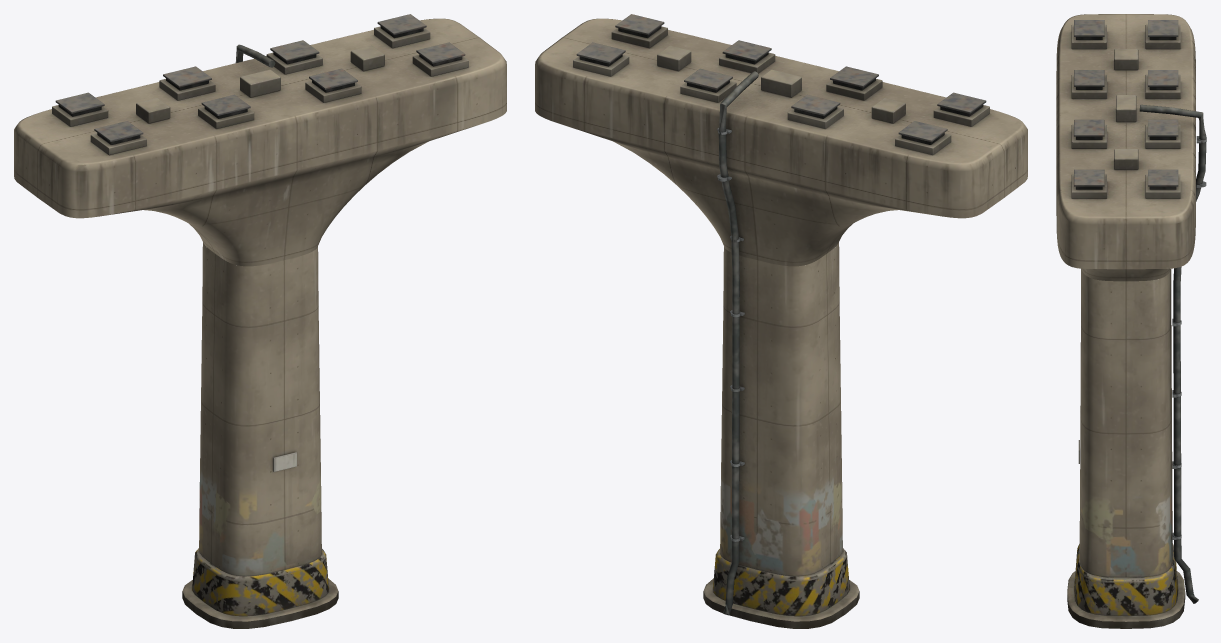
File: metro_pier.glb
3 views of the same model, side by side, from view 1: azimuth 30°, elevation 25°; view 2: azimuth 150°, elevation 25°; view 3: azimuth 270°, elevation 25° (orthographic). The views are drawn at different scales.
Parts seen in each view (by area): view 1: body; view 2: body; view 3: body.
Boxes of the visible parts, x1,y1,x2,y2 form: body: [14, 14, 506, 628]; body: [535, 14, 1027, 628]; body: [1056, 14, 1206, 628].
Bounding box in the file's own units: 9.96 × 11.28 × 3.05.
1 material, 1 textured.
